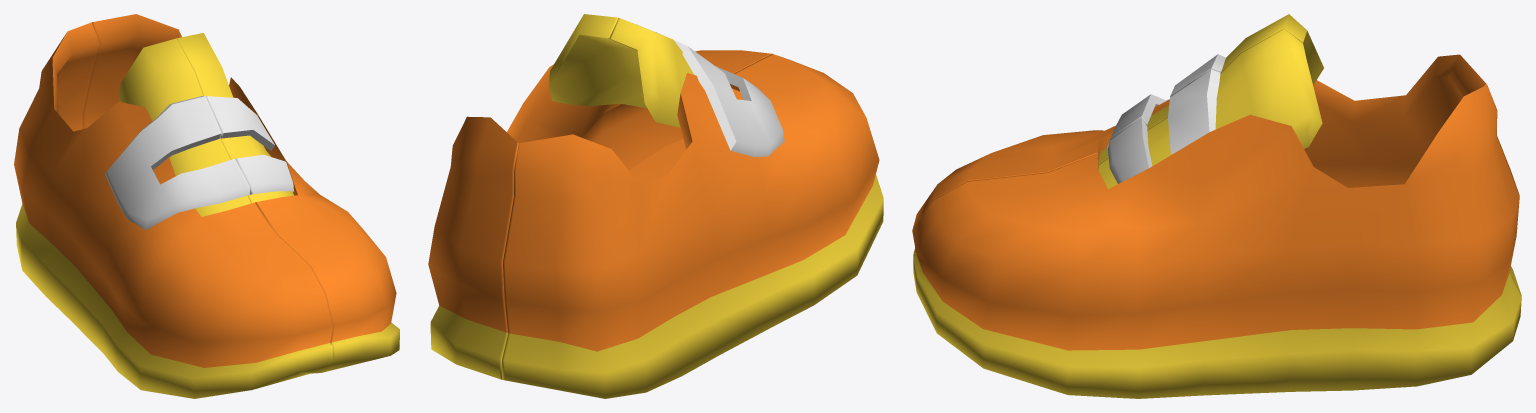
File: SM_Shoes_01a.fbx
3 views of the same model, side by side, from view 1: azimuth 30°, elevation 25°; view 2: azimuth 150°, elevation 25°; view 3: azimuth 270°, elevation 25° (orthographic). The views are drawn at different scales.
Visible parts, largest first — view 1: Shoe_02, Shoe_01; view 2: Shoe_02, Shoe_01; view 3: Shoe_01, Shoe_02.
Boxes of the visible parts, left/top/right/bottom form: Shoe_02: left=14, top=22, right=333, bottom=398; Shoe_01: left=83, top=14, right=399, bottom=372; Shoe_02: left=502, top=18, right=883, bottom=398; Shoe_01: left=428, top=14, right=771, bottom=379; Shoe_01: left=912, top=28, right=1521, bottom=398; Shoe_02: left=912, top=14, right=1521, bottom=294.
Bounding box in the file's own units: 26.26 × 28.87 × 50.55.
